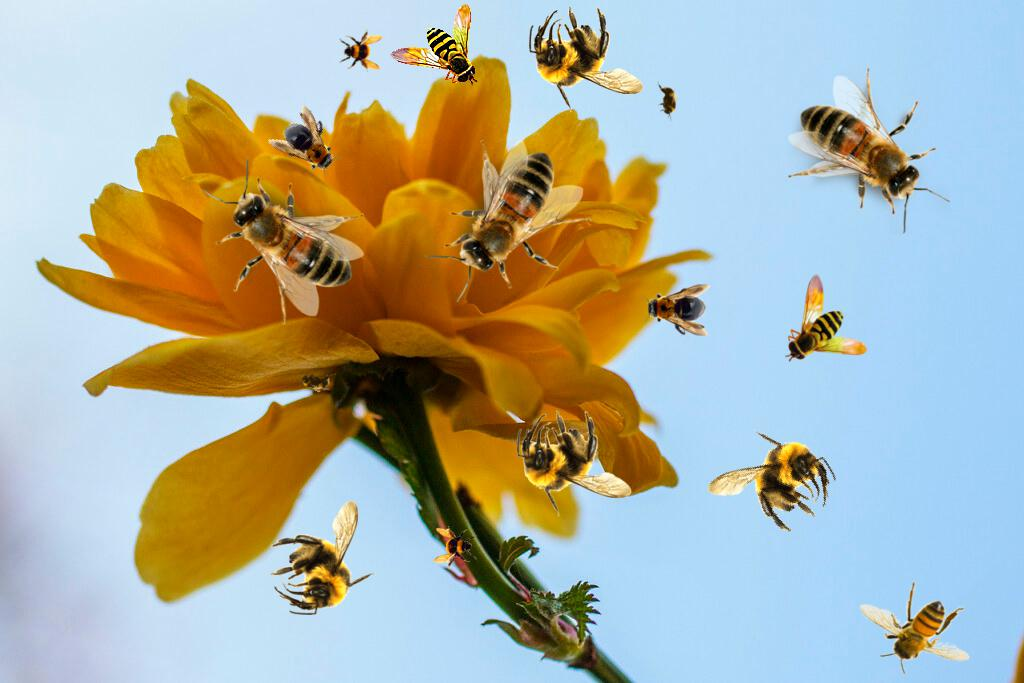Bee: (425, 140, 592, 302), (202, 158, 364, 325), (788, 67, 950, 234), (693, 405, 850, 560), (529, 6, 644, 113), (270, 500, 377, 615), (517, 410, 632, 517), (859, 581, 970, 675), (267, 102, 353, 188), (390, 4, 478, 86), (785, 274, 867, 362), (642, 284, 710, 336), (339, 28, 383, 72), (433, 526, 477, 570), (293, 366, 337, 396), (657, 81, 679, 121)
